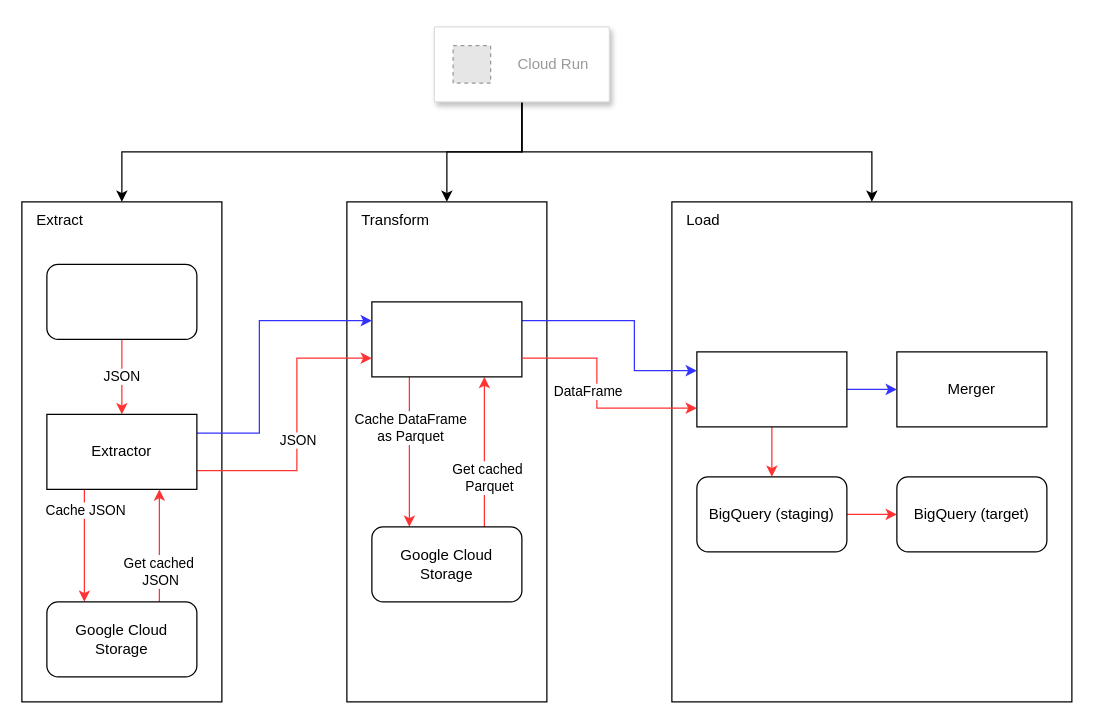
The diagram is 1094 pixels wide and 724 high, and some of its shapes have lost their labels. Grey dashed boxes stand in for pictures. The shapes that lost their labels are listed below. From the top down, each one's centre as x and y in pixels, then its label:
At (121,301): "Market Stack API".
At (446,339): "Transformer".
At (771,389): "Loader".
